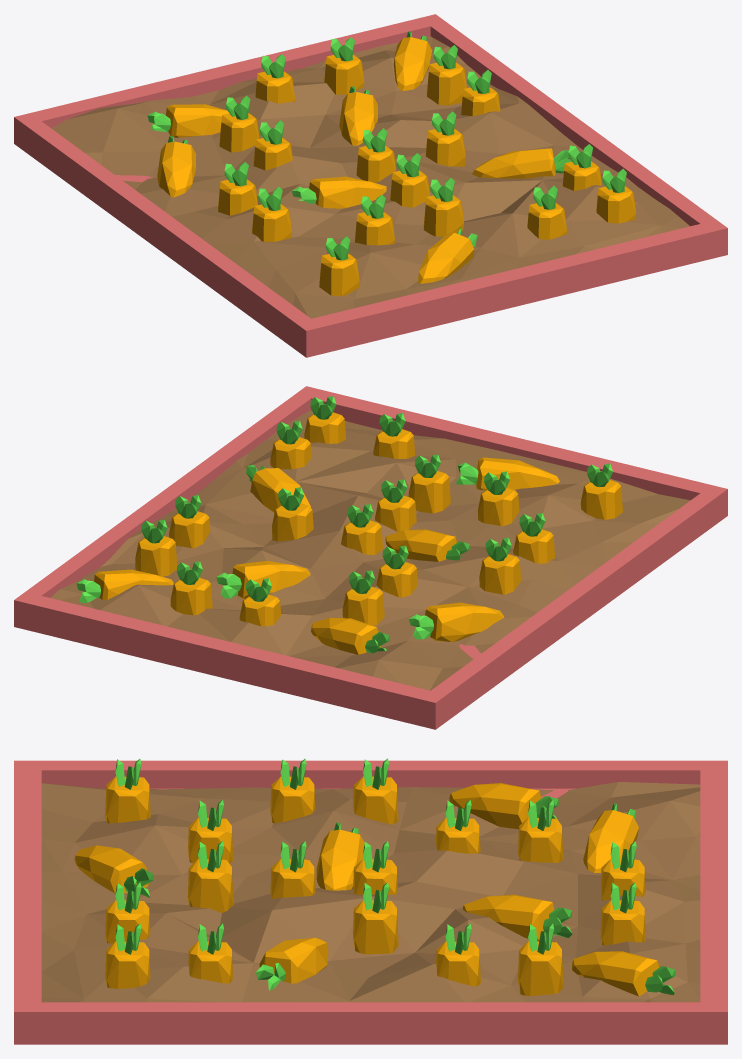
The model's file is huertoPisao.fbx.
3 views of the same model, one above another, from view 1: azimuth 30°, elevation 25°; view 2: azimuth 150°, elevation 25°; view 3: azimuth 270°, elevation 25° (orthographic). The views are drawn at different scales.
Parts seen in each view (by area): view 1: Cube.030; view 2: Cube.030; view 3: Cube.030.
Boxes of the visible parts, left/top/right/bottom form: Cube.030: left=14, top=14, right=727, bottom=357; Cube.030: left=14, top=386, right=727, bottom=729; Cube.030: left=14, top=758, right=727, bottom=1044.
Bounding box in the file's own units: 817 × 178 × 982.
